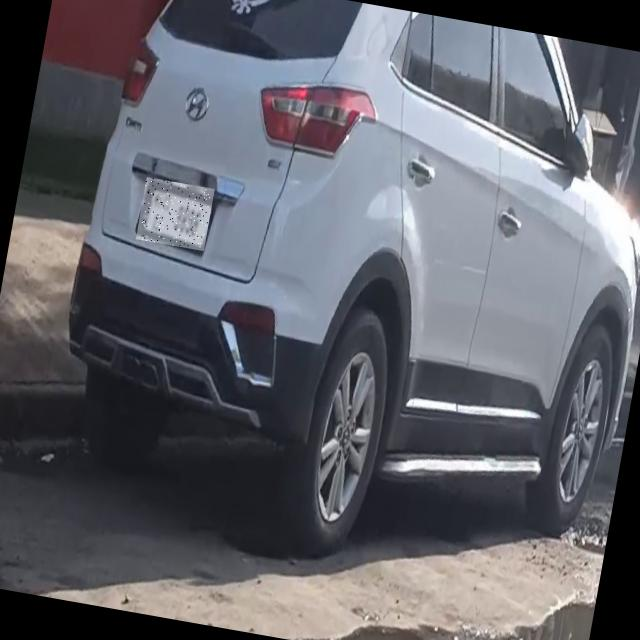Plate: (137, 178, 216, 252)
